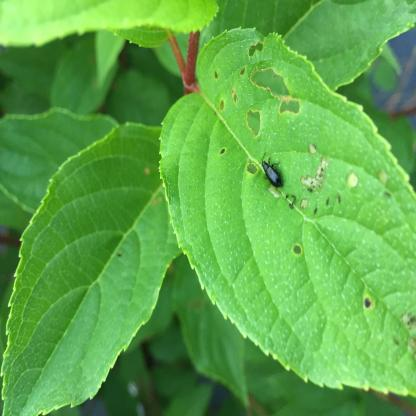beetle: (259, 158, 285, 194)
